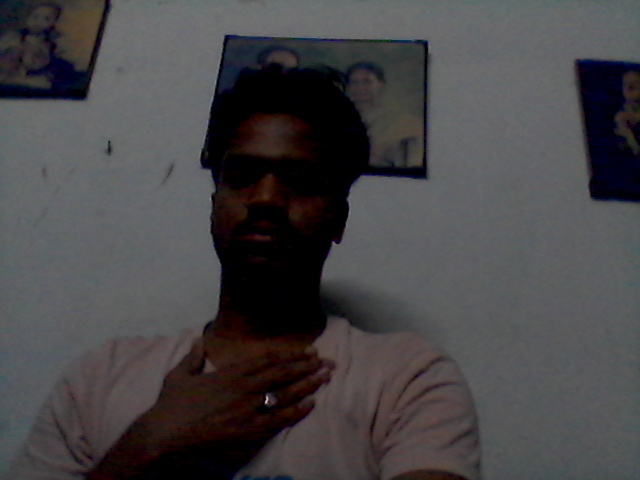Fine: (148, 337, 348, 473)
